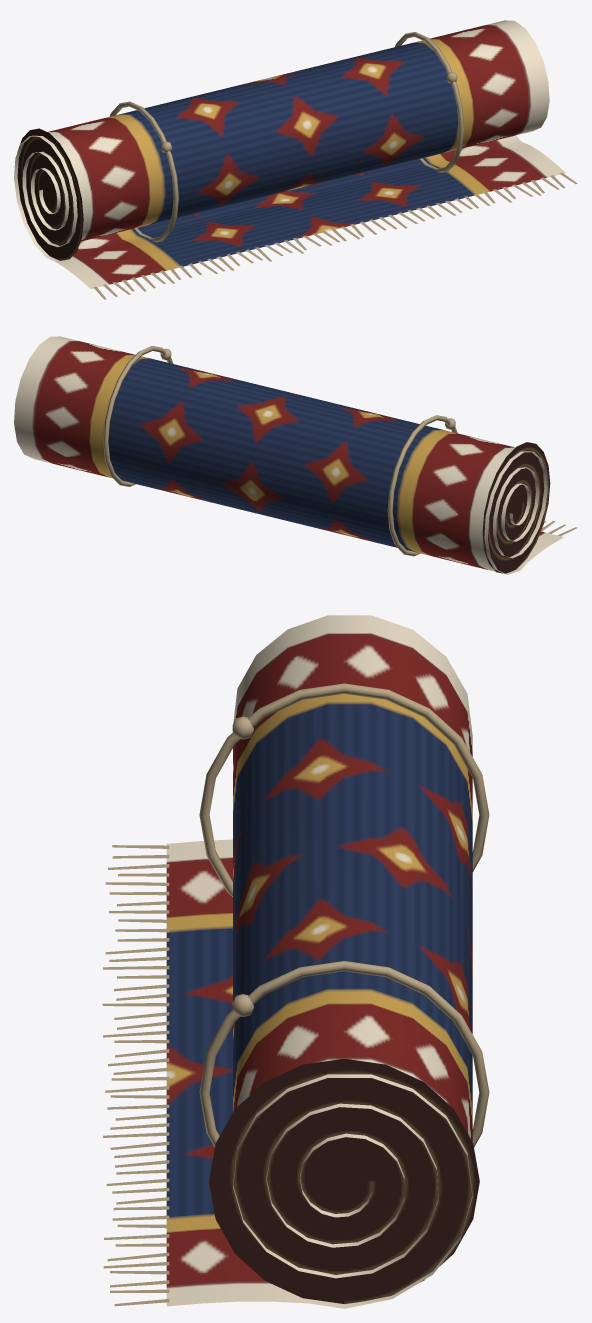
Rendered from prop-carpet-roll.glb.
3 views of the same model, one above another, from view 1: azimuth 30°, elevation 25°; view 2: azimuth 150°, elevation 25°; view 3: azimuth 270°, elevation 25° (orthographic). The views are drawn at different scales.
Visible parts, largest first — view 1: piece_CarpetIndigo, piece_Linen, piece_CarpetEnd; view 2: piece_CarpetIndigo, piece_CarpetEnd, piece_Linen; view 3: piece_CarpetIndigo, piece_CarpetEnd, piece_Linen.
Boxes of the visible parts, x1,y1,x2,y2 form: piece_CarpetIndigo: (14, 20, 565, 288); piece_Linen: (93, 32, 577, 299); piece_CarpetEnd: (17, 128, 83, 260); piece_CarpetIndigo: (14, 336, 563, 574); piece_CarpetEnd: (482, 442, 550, 573); piece_Linen: (103, 346, 577, 556); piece_CarpetIndigo: (166, 615, 472, 1308); piece_CarpetEnd: (209, 1058, 479, 1303); piece_Linen: (102, 683, 489, 1306).
Size of the model in its own units: 0.8 by 0.212 by 0.2828.
3 materials, 2 textured.
